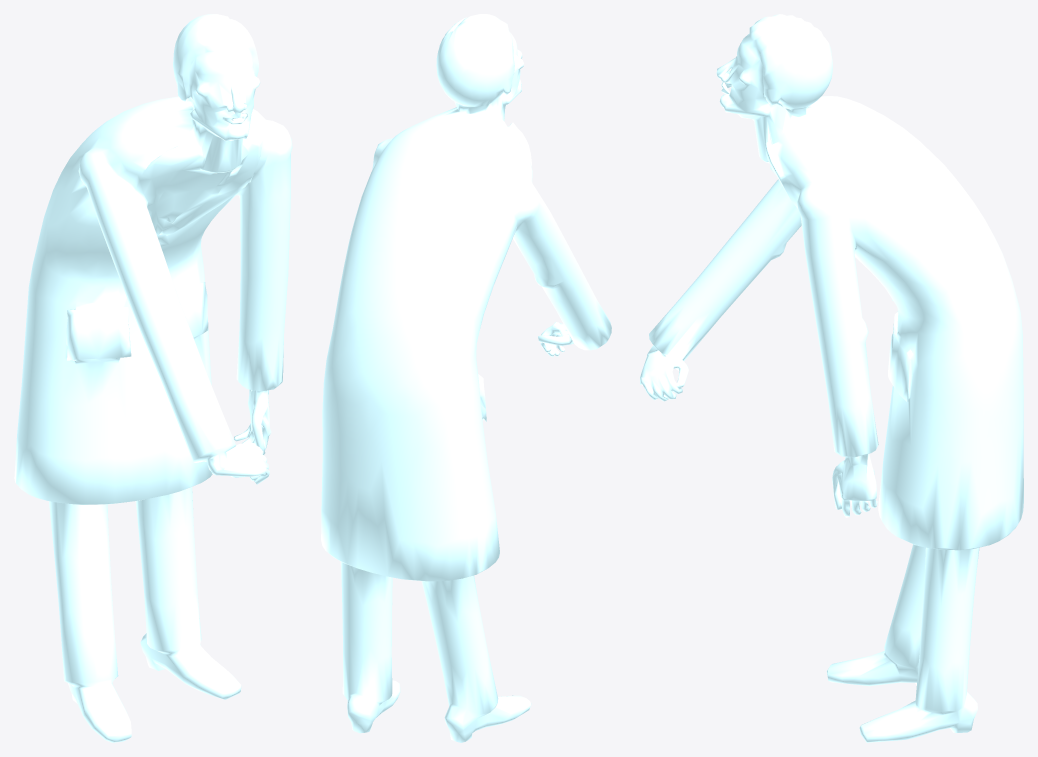
File: echo_tech_panel.glb
3 renders of one model, left to right at view 1: azimuth 30°, elevation 25°; view 2: azimuth 150°, elevation 25°; view 3: azimuth 270°, elevation 25°, orthographic. The views are drawn at different scales.
Visible parts, largest first — view 1: echo_tech_panel; view 2: echo_tech_panel; view 3: echo_tech_panel.
Boxes of the visible parts, left/top/right/bottom form: echo_tech_panel: left=14, top=14, right=292, bottom=742; echo_tech_panel: left=321, top=14, right=611, bottom=742; echo_tech_panel: left=640, top=14, right=1023, bottom=742.
Size of the model in its own units: 0.4906 by 1.66 by 0.8305.
